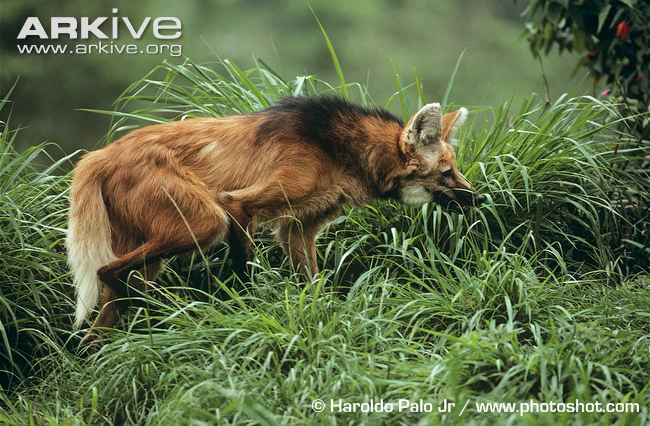LoboGuara: (45, 95, 500, 343)
